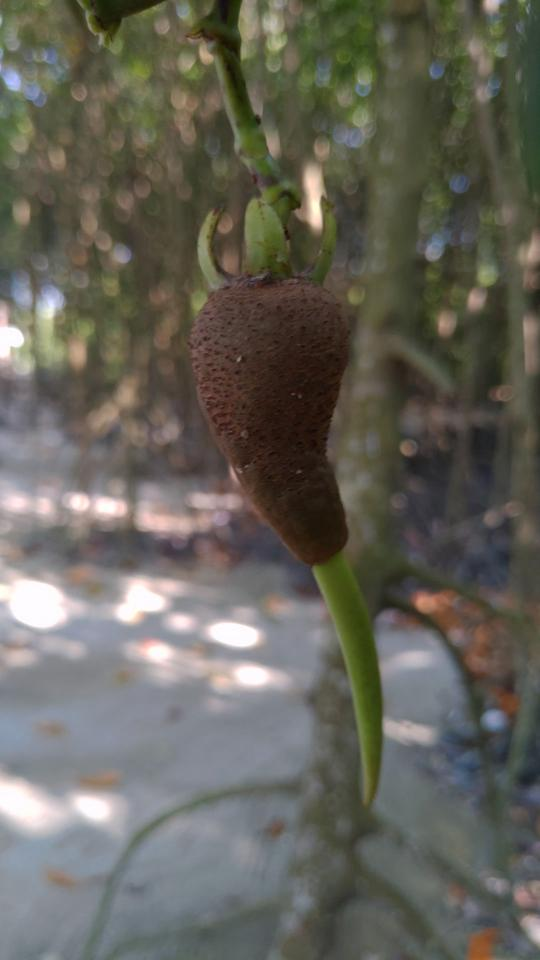mentah: (176, 171, 401, 823)
